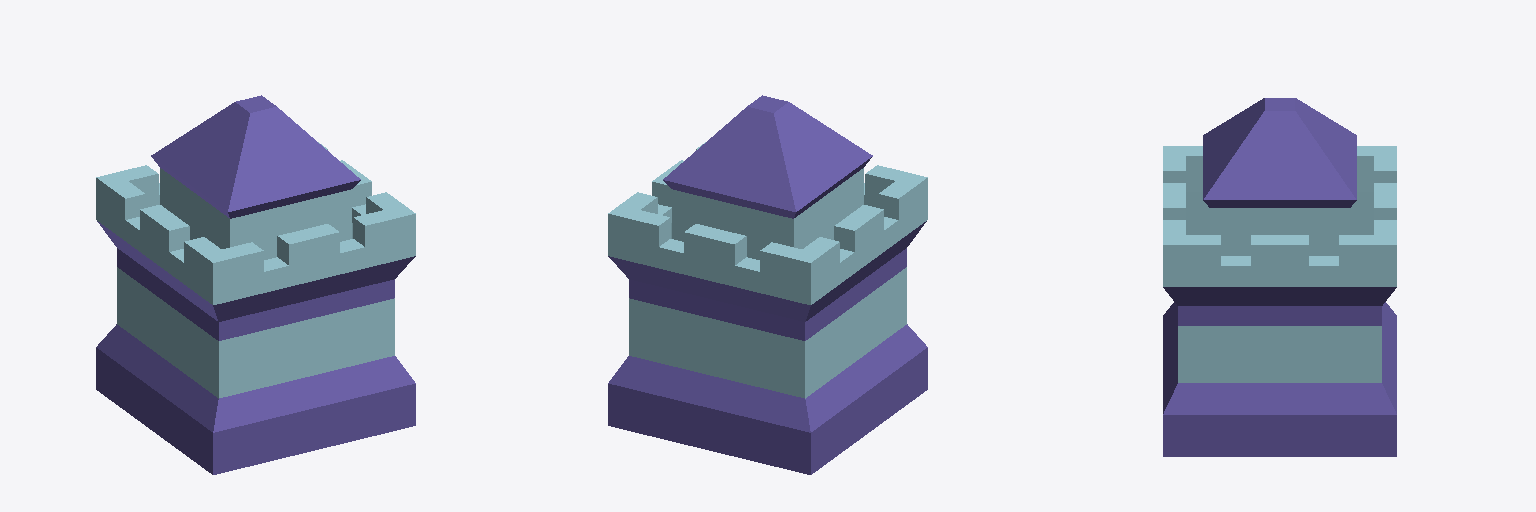
3 views of the same model, side by side, from view 1: azimuth 30°, elevation 25°; view 2: azimuth 150°, elevation 25°; view 3: azimuth 270°, elevation 25° (orthographic).
Visible parts, largest first — view 1: towerSquare_sampleA; view 2: towerSquare_sampleA; view 3: towerSquare_sampleA.
Part boxes in pixels (left/top/right/bottom): towerSquare_sampleA: left=96, top=95, right=415, bottom=474; towerSquare_sampleA: left=608, top=95, right=927, bottom=474; towerSquare_sampleA: left=1163, top=98, right=1396, bottom=456.
Bounding box in the file's own units: 0.6993 × 1 × 0.6993.